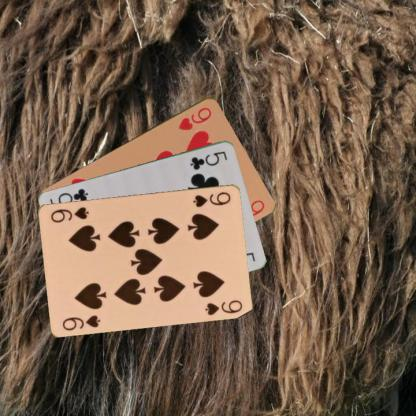5c: (187, 148, 229, 171)
9h: (176, 104, 213, 132)
9s: (60, 312, 102, 332), (191, 189, 232, 208)
